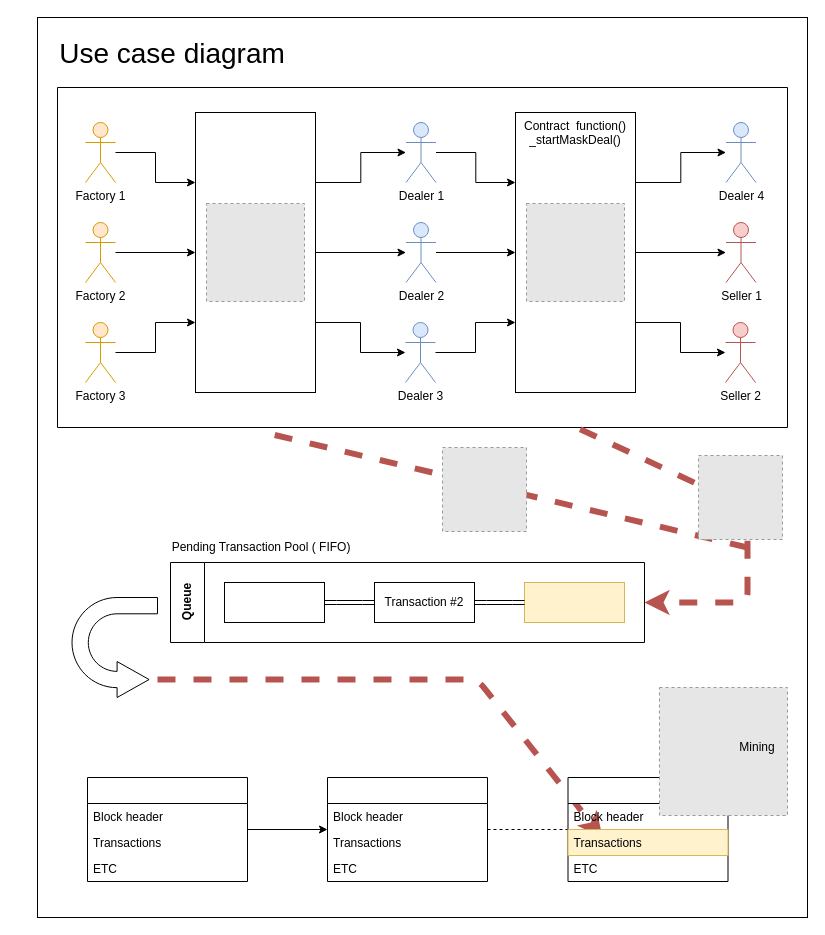
Image size: 825x935. Some labels were removed from this diagram. Grey dashed boxes stand in for pictures. The box of each missing label's shape, as (x1, y1, x2, y2) in pixels:
Block #12345: (86, 776, 248, 882)
Block #12346: (326, 776, 488, 882)
Block #12347: (567, 776, 728, 882)
Contract function() _maskMaking(): (194, 112, 316, 392)
Transaction #1: (224, 582, 324, 622)
Transaction #3: (524, 582, 624, 622)
